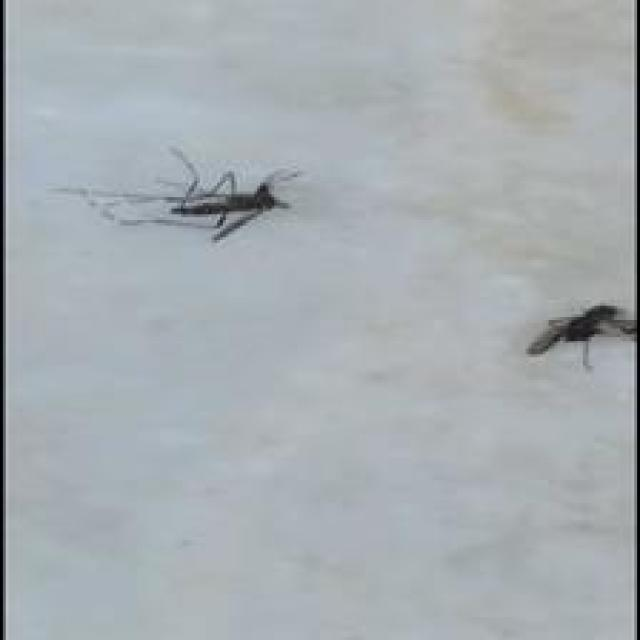Aedes albopictus: (526, 303, 637, 368)
